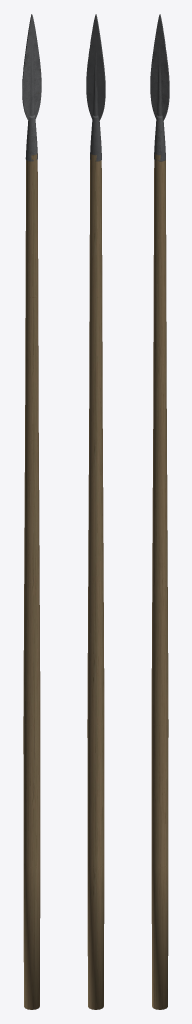
File: spear_p1_w1.glb
3 renders of one model, left to right at view 1: azimuth 30°, elevation 25°; view 2: azimuth 150°, elevation 25°; view 3: azimuth 330°, elevation 25°, orthographic.
Parts seen in each view (by area): view 1: spear_p1_w1; view 2: spear_p1_w1; view 3: spear_p1_w1.
Boxes of the visible parts, x1,y1,x2,y2 form: spear_p1_w1: [22, 14, 41, 1009]; spear_p1_w1: [86, 14, 105, 1009]; spear_p1_w1: [150, 14, 169, 1009].
Size of the model in its own units: 0.0466 by 2.33 by 0.036.
2 materials, 2 textured.
